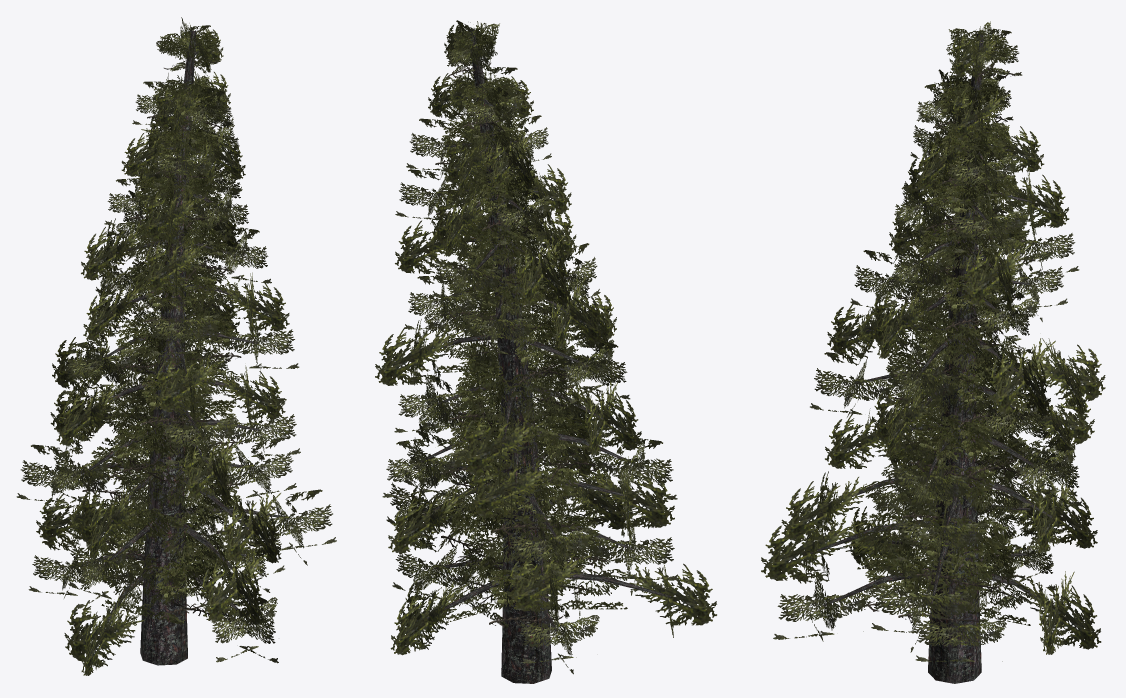
File: conifer_v5_irregular_01_lod1.glb
The picture shows the model from 3 angles, left to right: view 1: azimuth 30°, elevation 25°; view 2: azimuth 150°, elevation 25°; view 3: azimuth 270°, elevation 25°; orthographic projection. The views are drawn at different scales.
Parts seen in each view (by area): view 1: foliage_cards, wood_geometry; view 2: foliage_cards, wood_geometry; view 3: foliage_cards, wood_geometry.
Boxes of the visible parts, left/top/right/bottom form: foliage_cards: left=16, top=17, right=336, bottom=675; wood_geometry: left=61, top=30, right=283, bottom=665; foliage_cards: left=375, top=20, right=716, bottom=674; wood_geometry: left=421, top=28, right=671, bottom=683; foliage_cards: left=761, top=21, right=1105, bottom=661; wood_geometry: left=810, top=33, right=1060, bottom=683.
Size of the model in its own units: 4.62 by 9.25 by 4.52.
2 materials, 2 textured.
